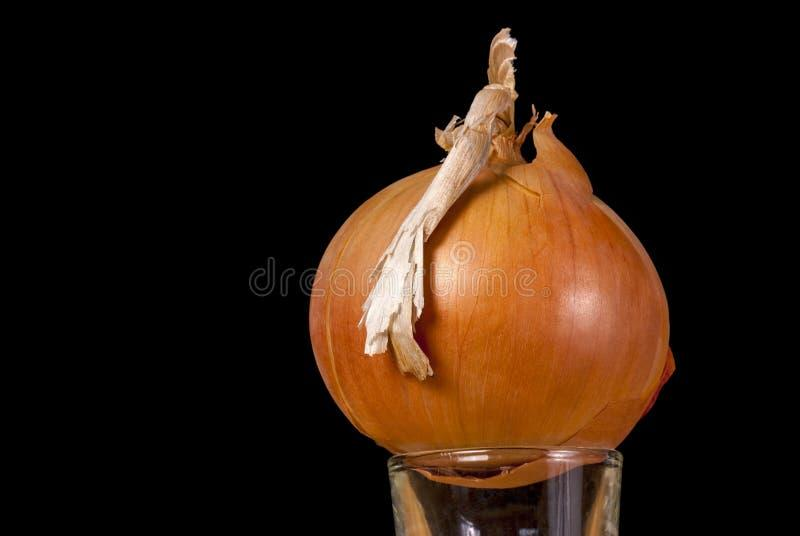Onion: (310, 114, 673, 453)
